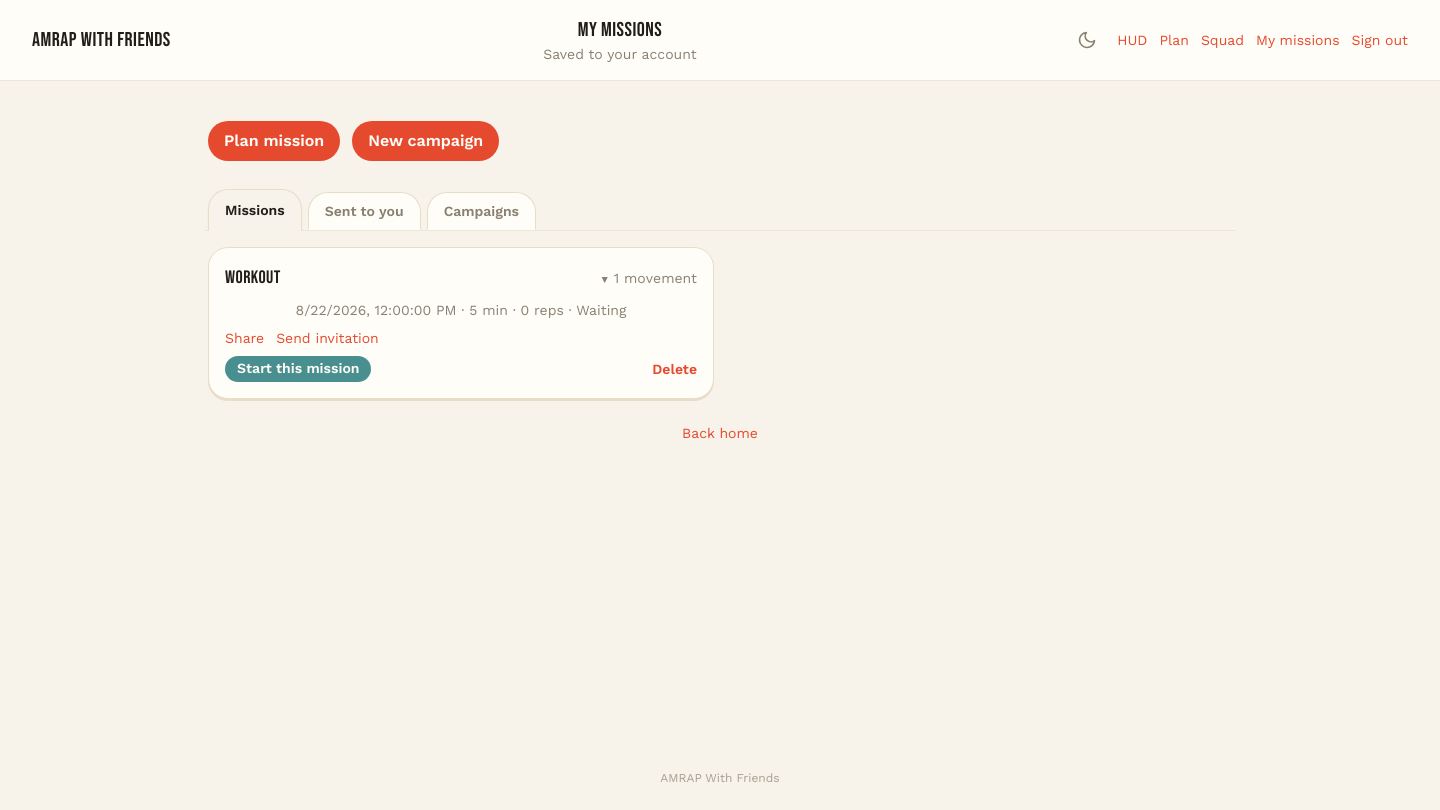
Test: MyMissionsPage delete › confirms then deletes and reloads the list
Click the button "Delete" at (675, 369), box [652,359,697,379]
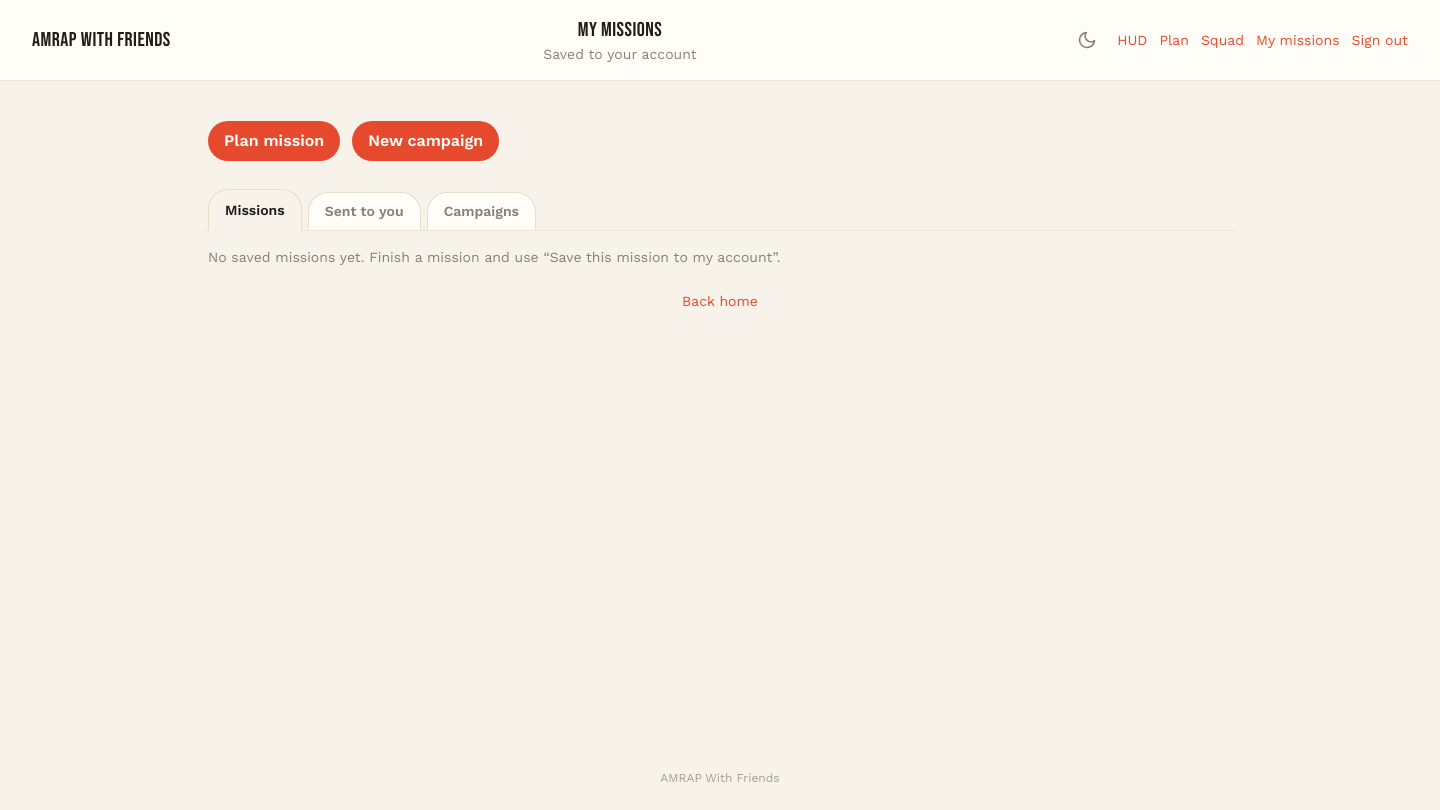
Expected: the button "Delete" is gone
Expected: the text "No saved missions yet" is shown, [208,249,780,265]
